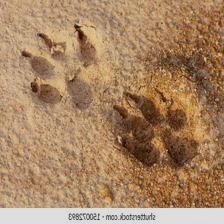coyote: (111, 88, 204, 177), (21, 23, 111, 108)
